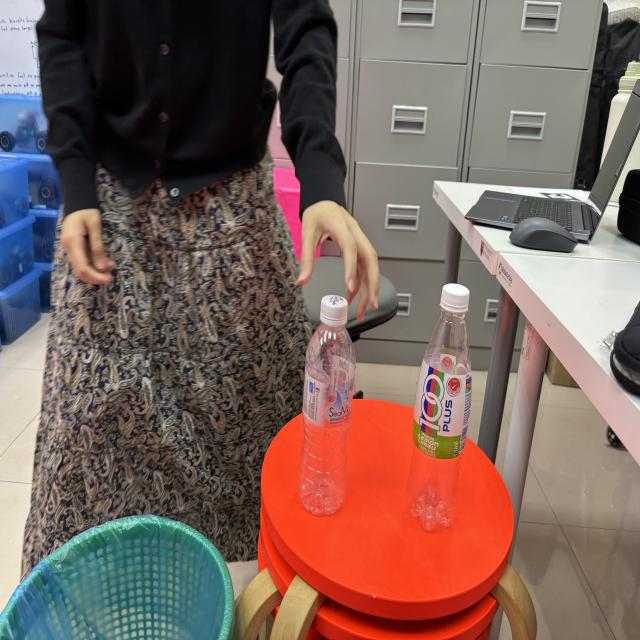dustbin: (0, 502, 238, 640)
plastic_bottle: (404, 269, 479, 541), (298, 288, 363, 529)
